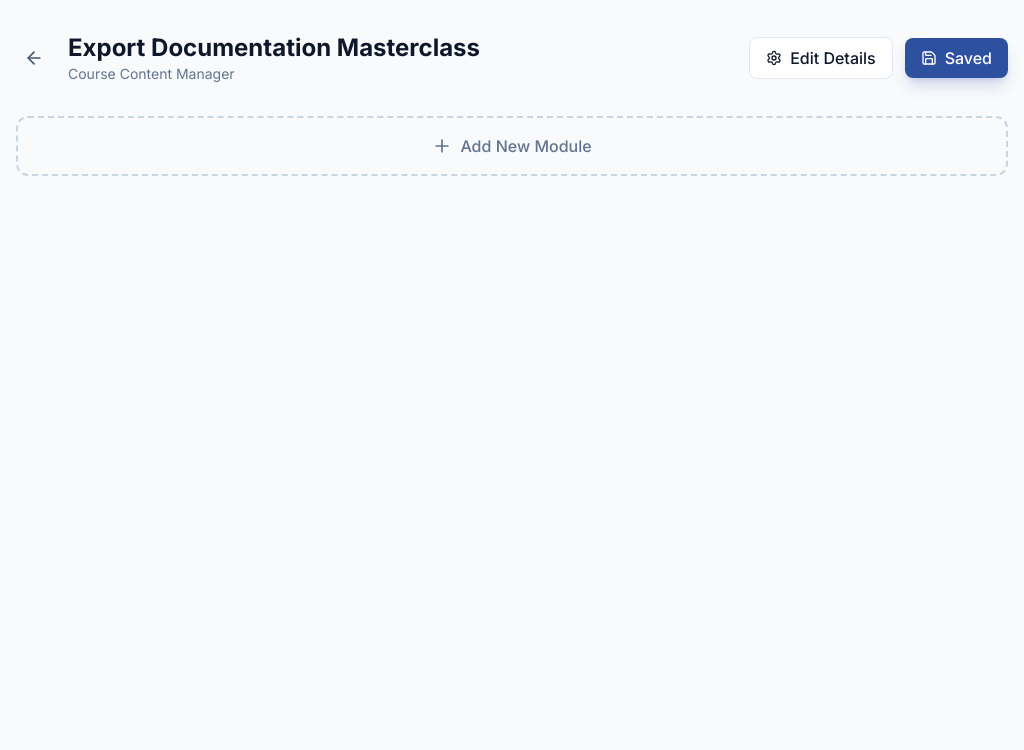
Scenario: #930 — and the edit form can correct a course already stored › IT LOADS WHAT THE CATALOGUE IS SHOWING, not a default
Click the button "Edit Details" at (821, 58), box [749,37,893,79]
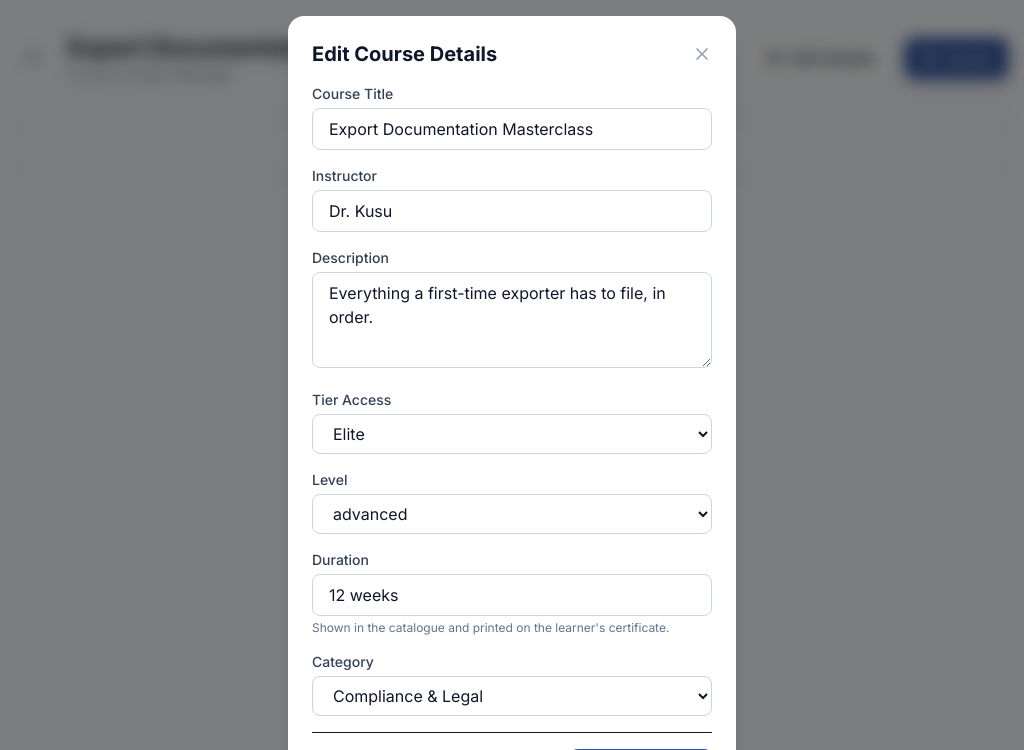
expect the dropdown below "Level" shows "advanced": met, box [312,494,712,534]
expect the field with placeholder "e.g., 6 weeks" below "Duration" holds "12 weeks": met, box [312,574,712,616]
